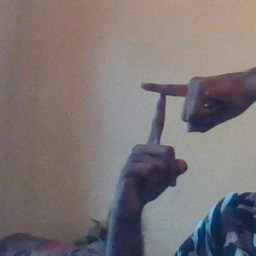T: (121, 71, 208, 163)
